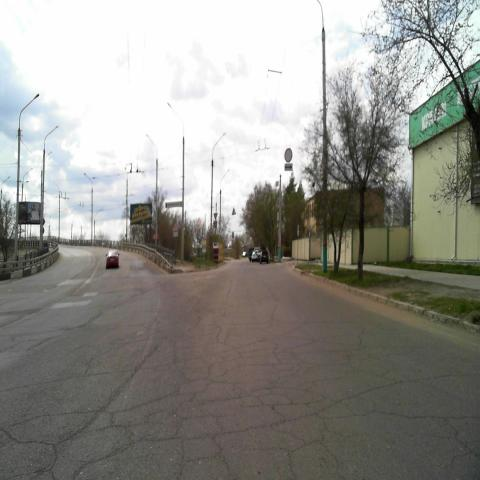3_2: (284, 147, 293, 163)
